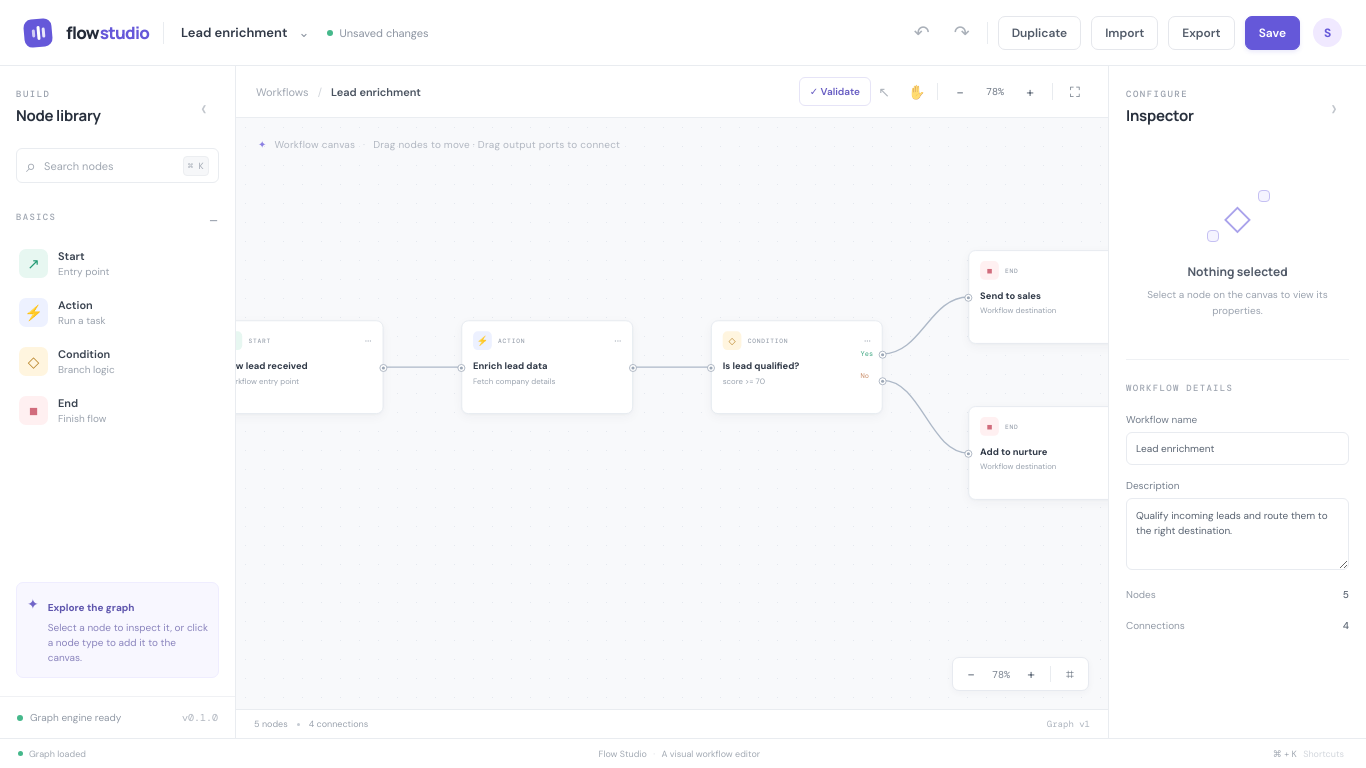
Scenario: workflow editor interactions › deletes a selected node and removes it from the canvas
The width and height of the screenshot is (1366, 768).
Click the element named "Node Enrich lead data" at (547, 367), box [461,320,633,414]
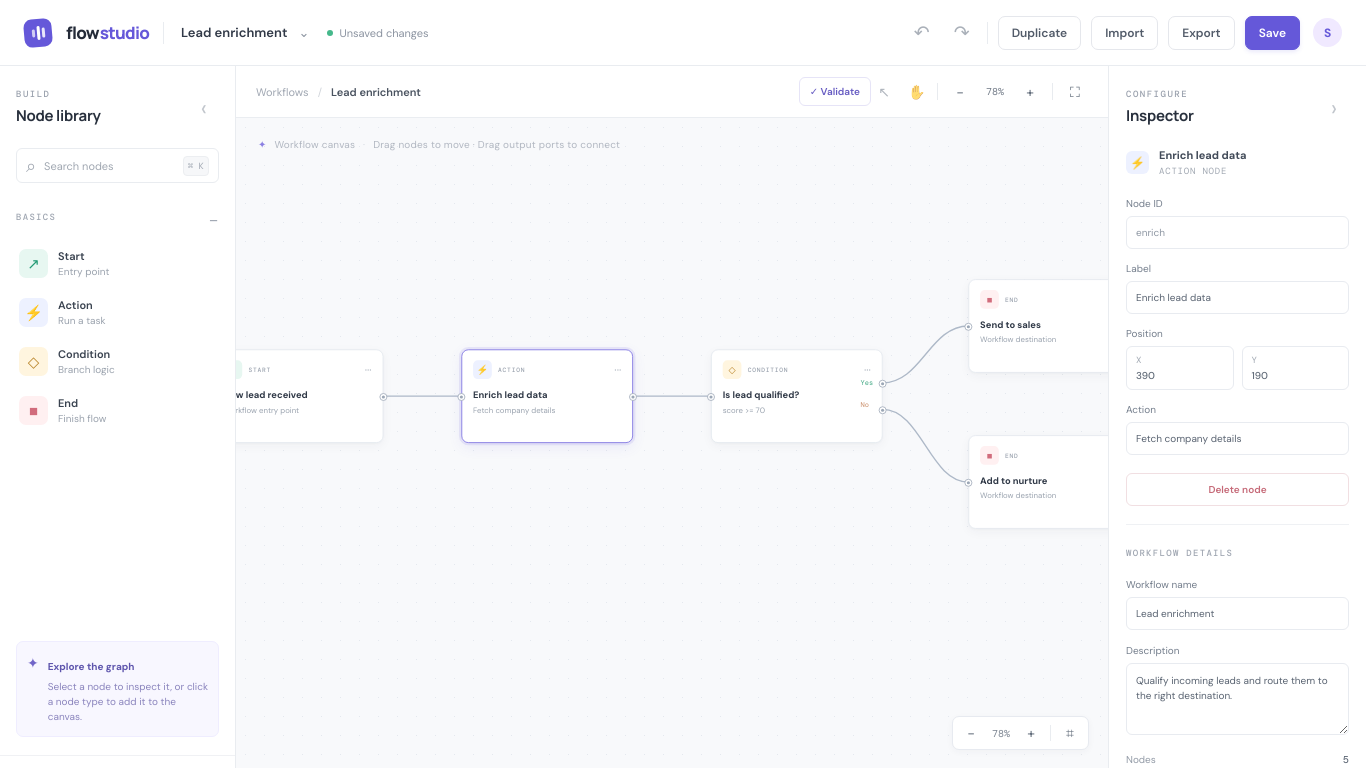
Click the button "Delete node" at (1238, 490), box [1126,473,1349,506]
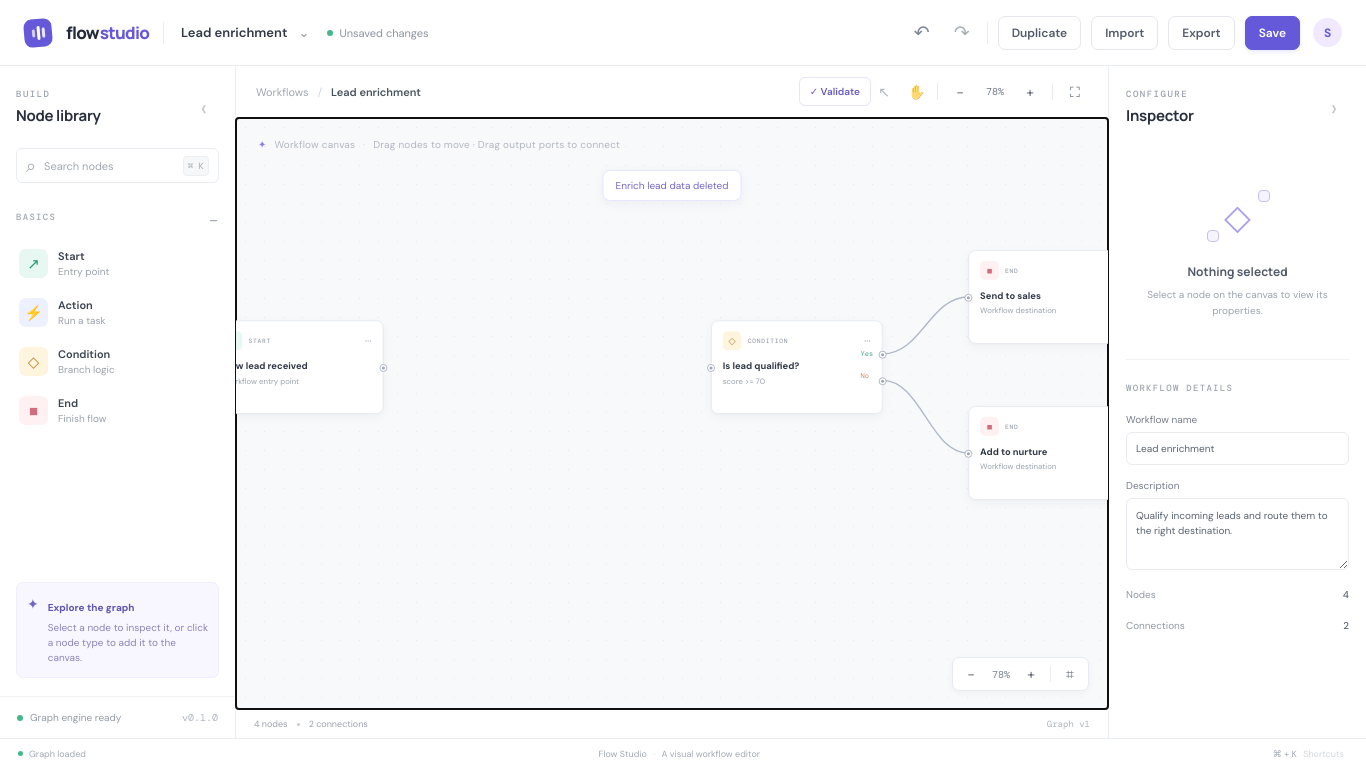
Expected: the message reads "Enrich lead data deleted", [616,179,728,192]
